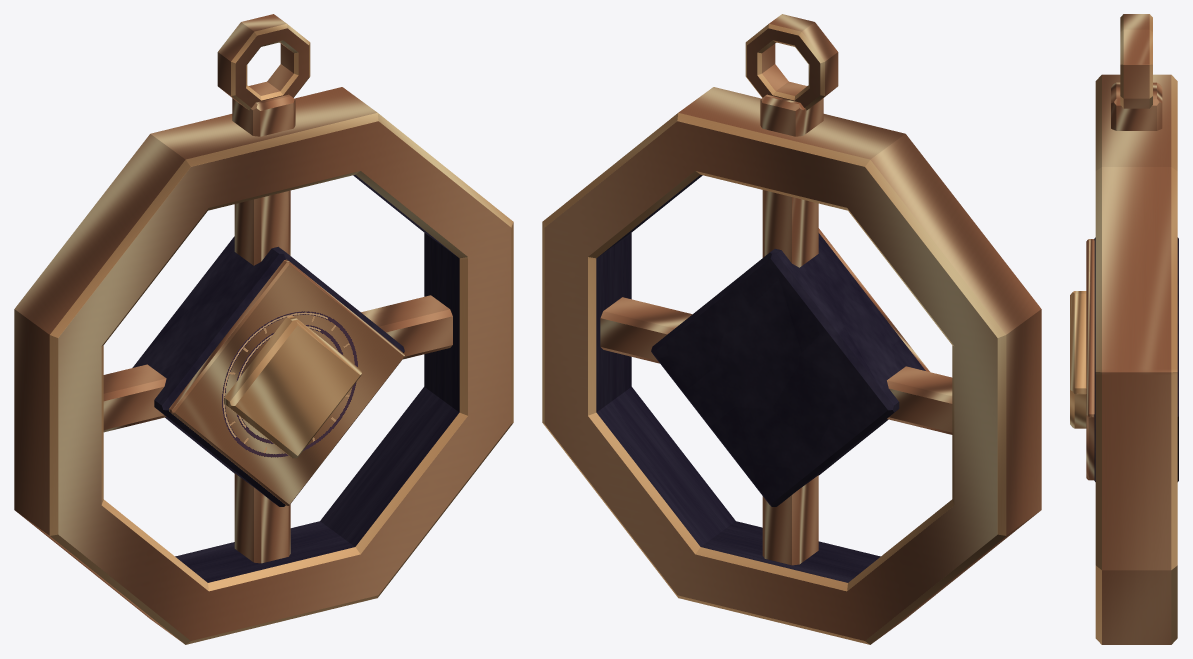
Rendered from rift_anchor.obj.
The picture shows the model from 3 angles, left to right: view 1: azimuth 30°, elevation 25°; view 2: azimuth 150°, elevation 25°; view 3: azimuth 270°, elevation 25°; orthographic projection.
Visible parts, largest first — view 1: Continuous_copper_housing, Seated_engraved_seal, Socket, Crystal_bezel, Continuous_suspension_loop, South_structural_spoke, East_structural_spoke, North_structural_spoke, West_structural_spoke, Loop_mounting_neck; view 2: Continuous_copper_housing, Socket, Continuous_suspension_loop, South_structural_spoke, East_structural_spoke, North_structural_spoke, West_structural_spoke, Loop_mounting_neck; view 3: Continuous_copper_housing, Continuous_suspension_loop, Crystal_bezel, Seated_engraved_seal, Loop_mounting_neck, Socket.
Part boxes in pixels (x1,y1,x2,y2): Continuous_copper_housing: (14, 87, 513, 644); Seated_engraved_seal: (169, 259, 404, 505); Socket: (132, 236, 404, 506); Crystal_bezel: (224, 315, 361, 458); Continuous_suspension_loop: (217, 14, 310, 110); South_structural_spoke: (234, 473, 290, 563); East_structural_spoke: (361, 295, 452, 359); North_structural_spoke: (234, 190, 290, 265); West_structural_spoke: (103, 364, 166, 432); Loop_mounting_neck: (232, 94, 295, 136); Continuous_copper_housing: (542, 87, 1041, 644); Socket: (651, 233, 925, 506); Continuous_suspension_loop: (745, 14, 838, 110); South_structural_spoke: (762, 475, 818, 565); East_structural_spoke: (600, 297, 692, 363); North_structural_spoke: (762, 190, 818, 267); West_structural_spoke: (887, 366, 952, 434); Loop_mounting_neck: (760, 94, 823, 136); Continuous_copper_housing: (1095, 74, 1177, 644); Continuous_suspension_loop: (1120, 14, 1152, 108); Crystal_bezel: (1070, 291, 1086, 428); Seated_engraved_seal: (1086, 239, 1094, 480); Loop_mounting_neck: (1111, 82, 1162, 130); Socket: (1094, 237, 1178, 481).
Bounding box in the file's own units: 0.6437 × 0.7769 × 0.1328.
